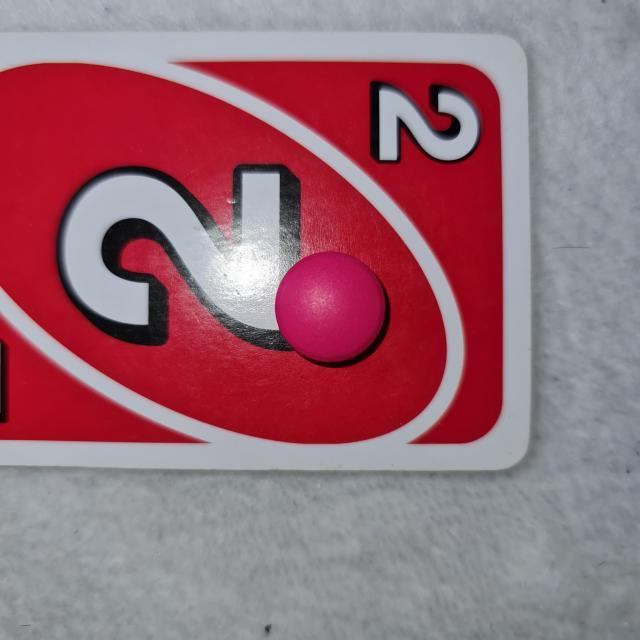pill: (273, 250, 390, 368)
